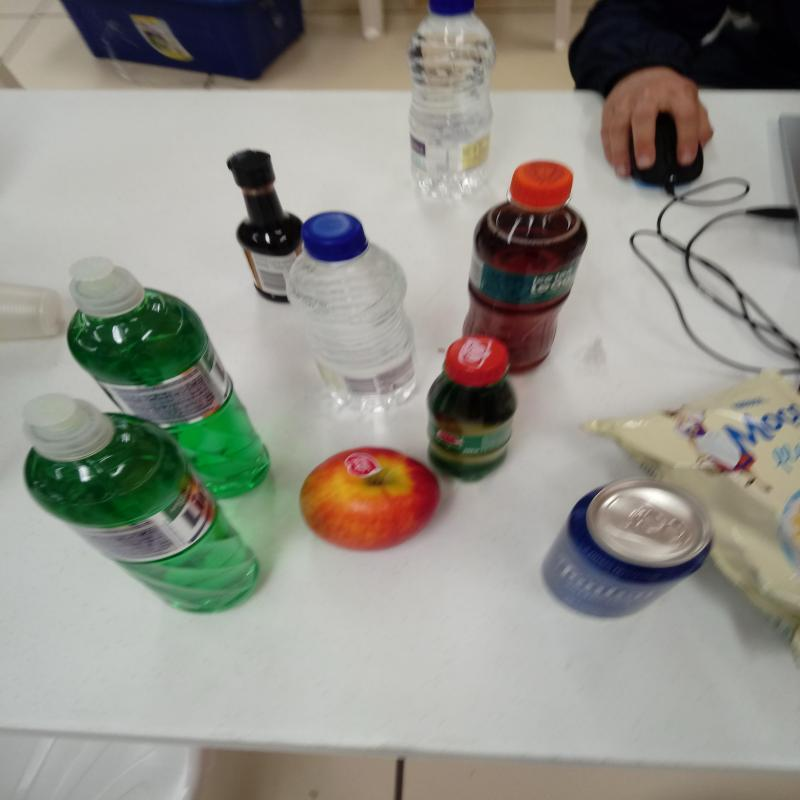Apple: (301, 448, 445, 552)
Cleaner: (20, 393, 268, 612), (65, 254, 277, 502)
CornFlakes: (589, 369, 800, 652)
EnglishSauce: (232, 151, 304, 300)
Guarana: (427, 338, 516, 478)
IceTea: (463, 162, 592, 372)
Tonic: (536, 477, 712, 620)
Water: (287, 212, 419, 414), (408, 1, 497, 204)
